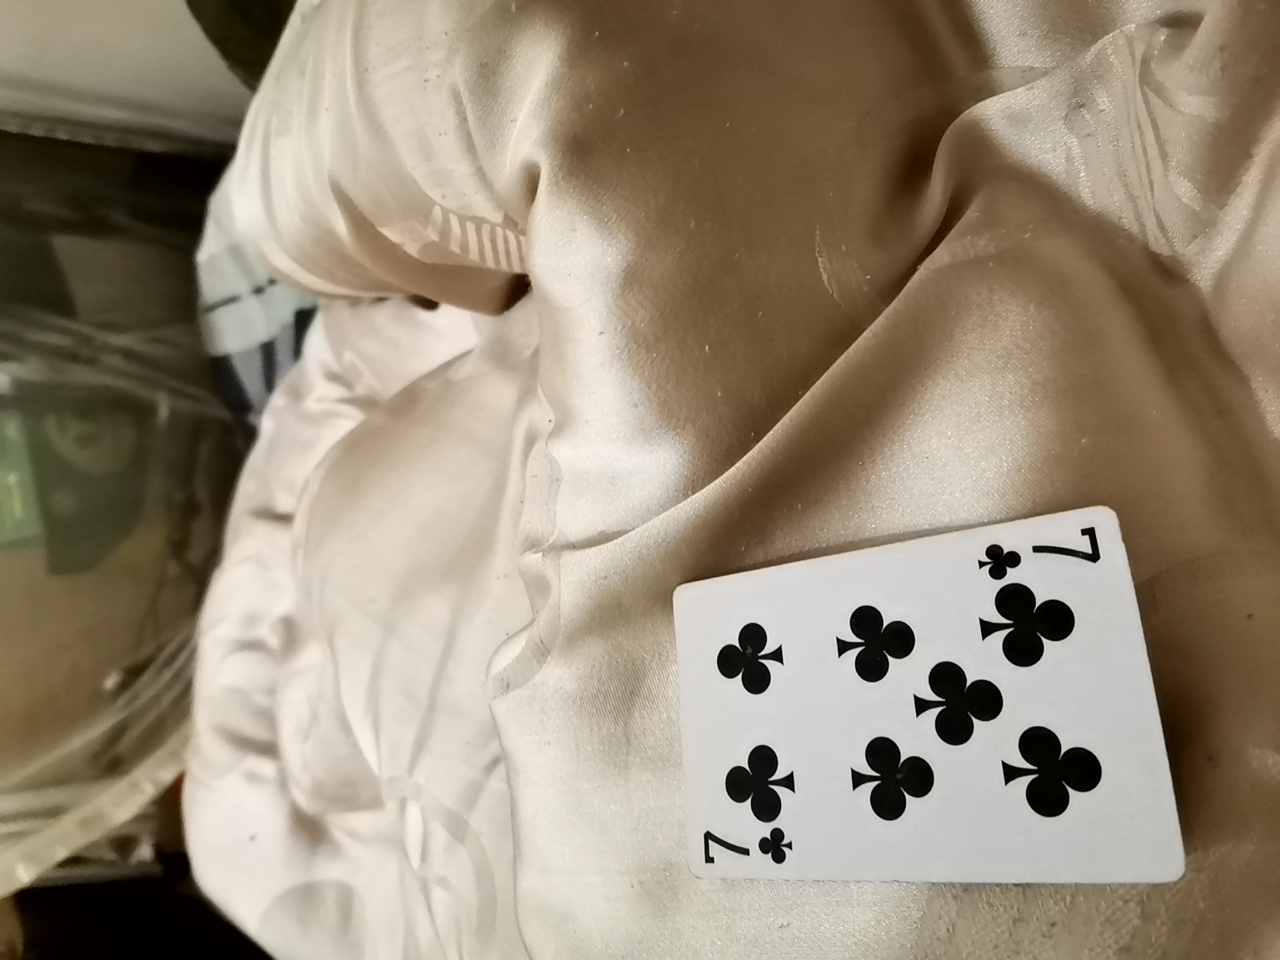mh 7: (659, 518, 1194, 897)
